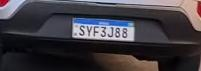Placa_mercosul_carro: (72, 17, 135, 42)
